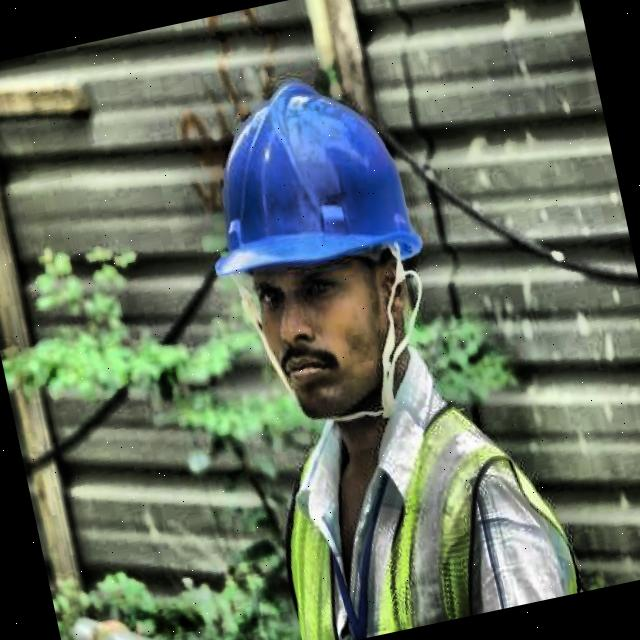helmet: (165, 40, 478, 463)
